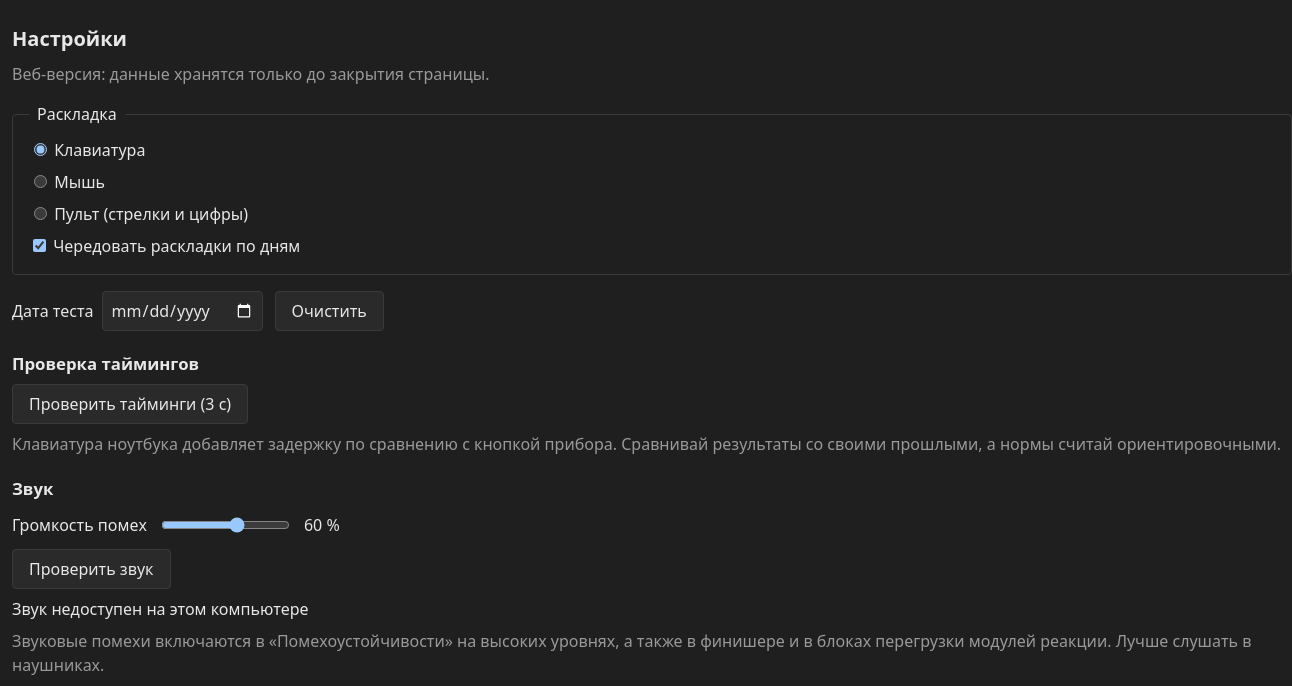
Test: Settings timing self-check › warns when more than 5 % of the frames are dropped
Click the button "Проверить тайминги (3 с)": point(130, 404) [12, 384, 248, 424]
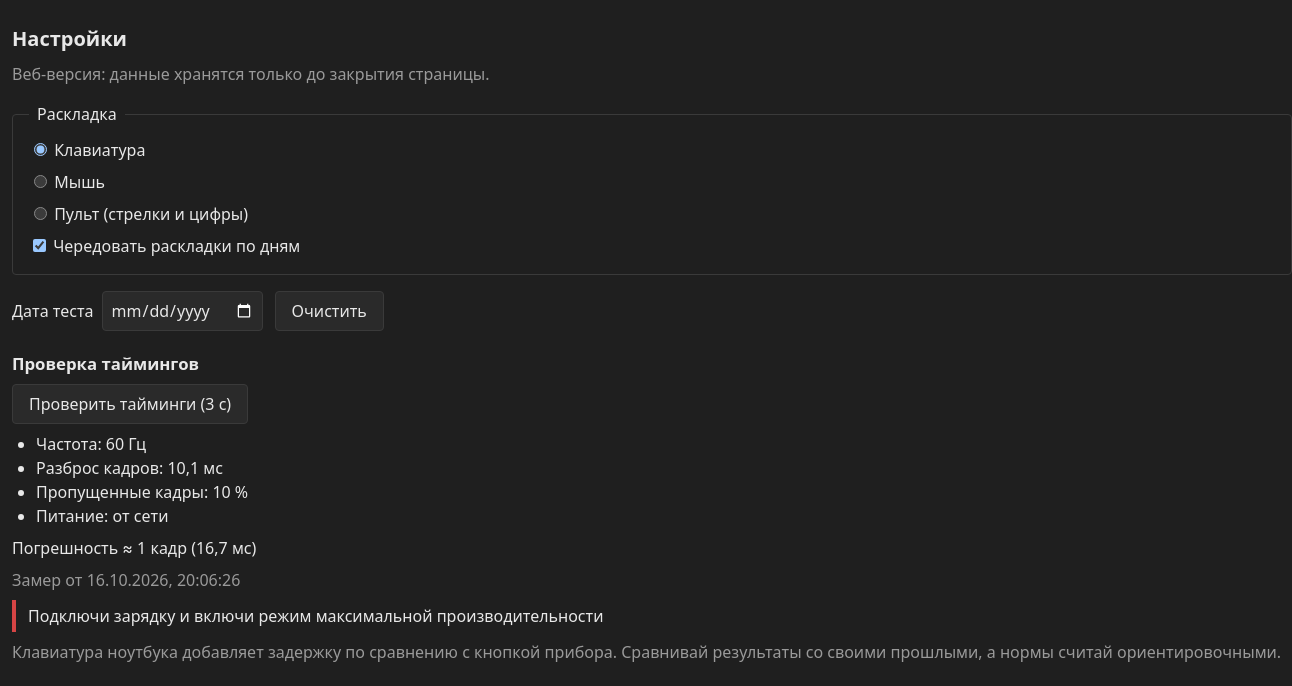
Result: the list item "Пропущенные кадры: 10 %" is shown at [36, 481, 248, 503]
Result: the text "Подключи зарядку и включи режим максимальной производительности" is shown at [12, 600, 1291, 632]
